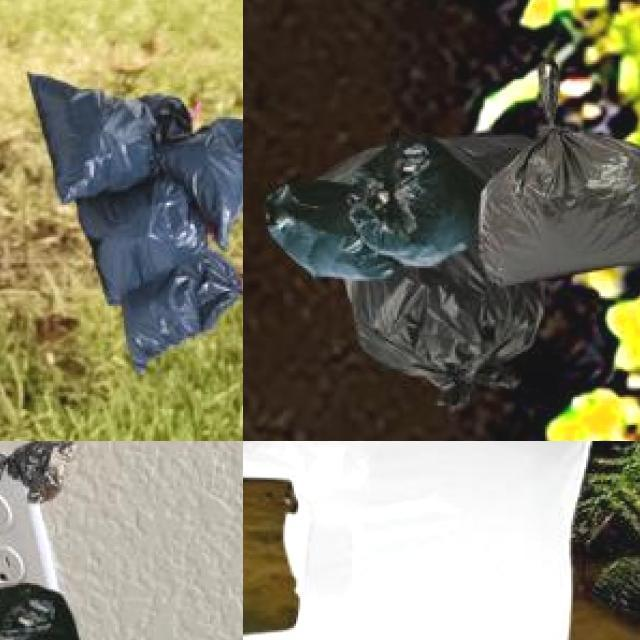waste: (243, 441, 579, 640), (336, 134, 550, 402), (481, 64, 640, 269), (24, 73, 186, 178), (120, 261, 243, 371), (73, 188, 210, 278), (174, 126, 243, 244), (0, 441, 63, 558), (0, 585, 91, 640)
